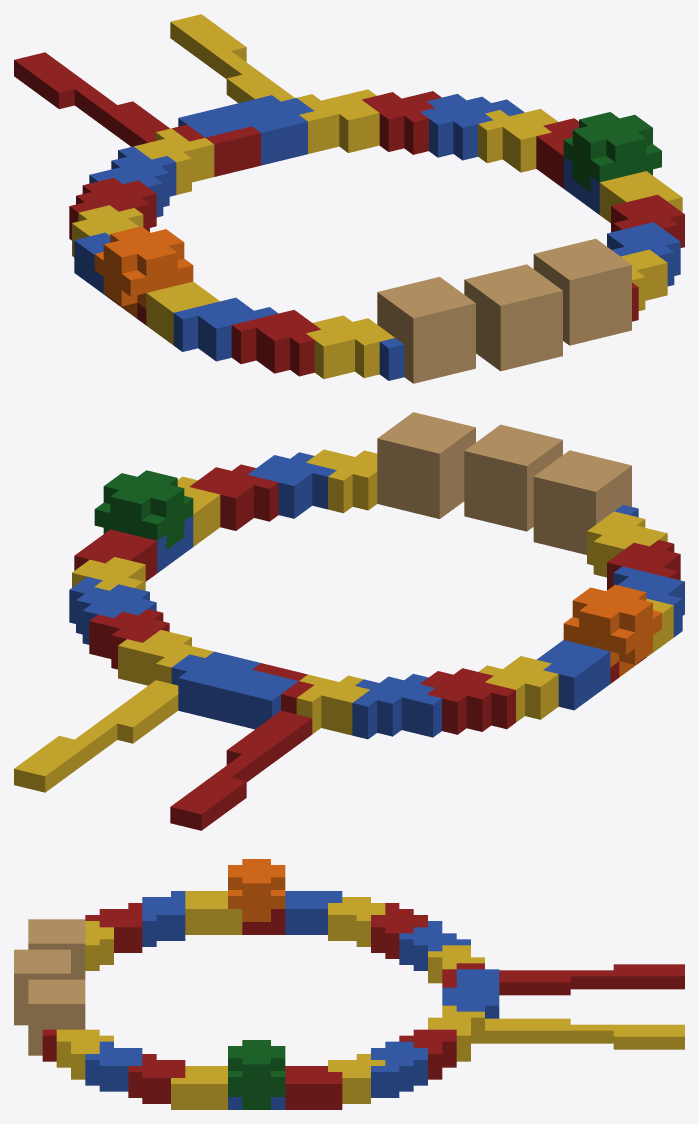
Rendered from bracelet_friendship.glb.
The picture shows the model from 3 angles, top to bottom: view 1: azimuth 30°, elevation 25°; view 2: azimuth 150°, elevation 25°; view 3: azimuth 270°, elevation 25°; orthographic projection. The views are drawn at different scales.
Parts seen in each view (by area): view 1: bracelet_friendship:compound; view 2: bracelet_friendship:compound; view 3: bracelet_friendship:compound.
Boxes of the visible parts, bbox=[...] form: bracelet_friendship:compound: bbox=[14, 14, 684, 383]; bracelet_friendship:compound: bbox=[14, 412, 684, 830]; bracelet_friendship:compound: bbox=[14, 859, 684, 1109].
Size of the model in its own units: 0.068 by 0.008 by 0.094.
